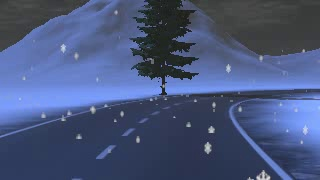Lane: (0, 88, 317, 179)
